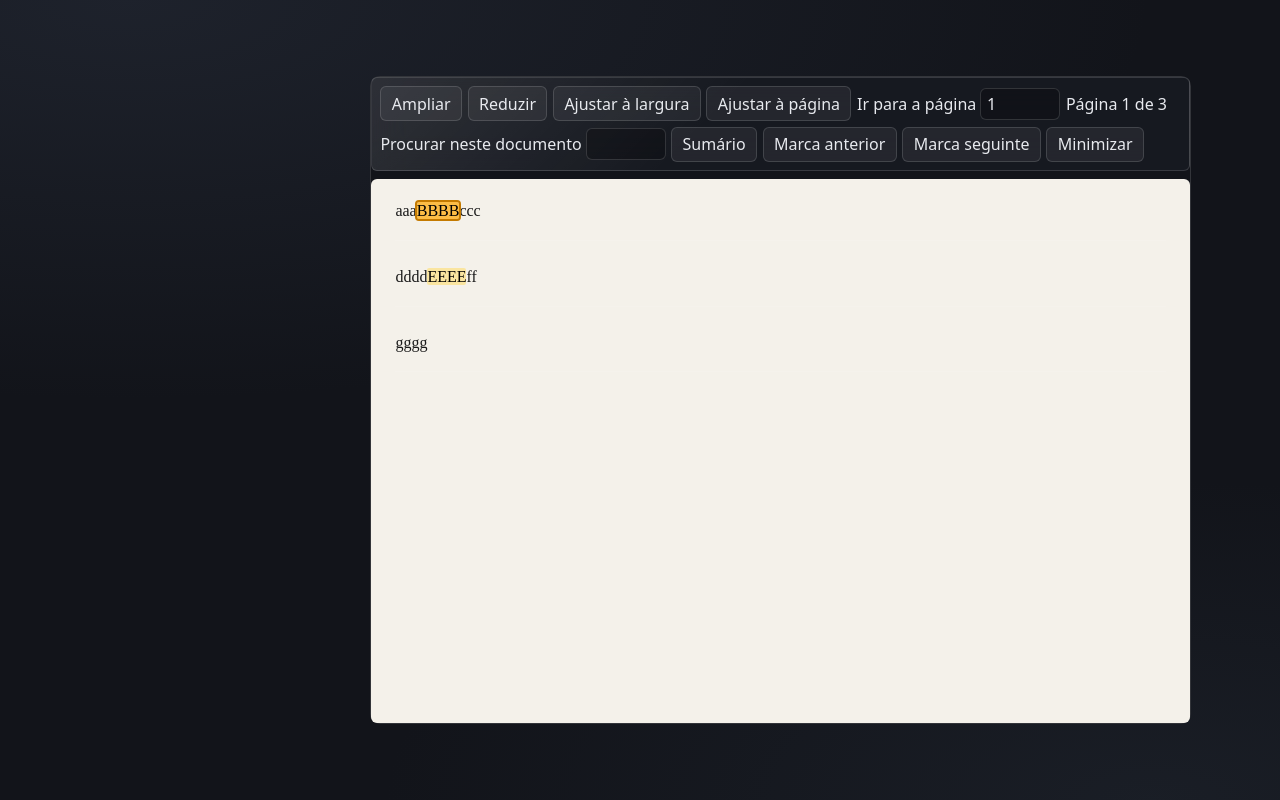
Test: REG-LEI-002 › scroll contínuo e salto entre marcas
The width and height of the screenshot is (1280, 800).
Expected: the dialog is shown, [370,76,1191,724]
Expected: the element showing "aaaBBBBccc ddddEEEEff gggg" is shown, [371,179,1190,723]
Click the button "Marca seguinte": point(972, 144) [902,127,1041,162]
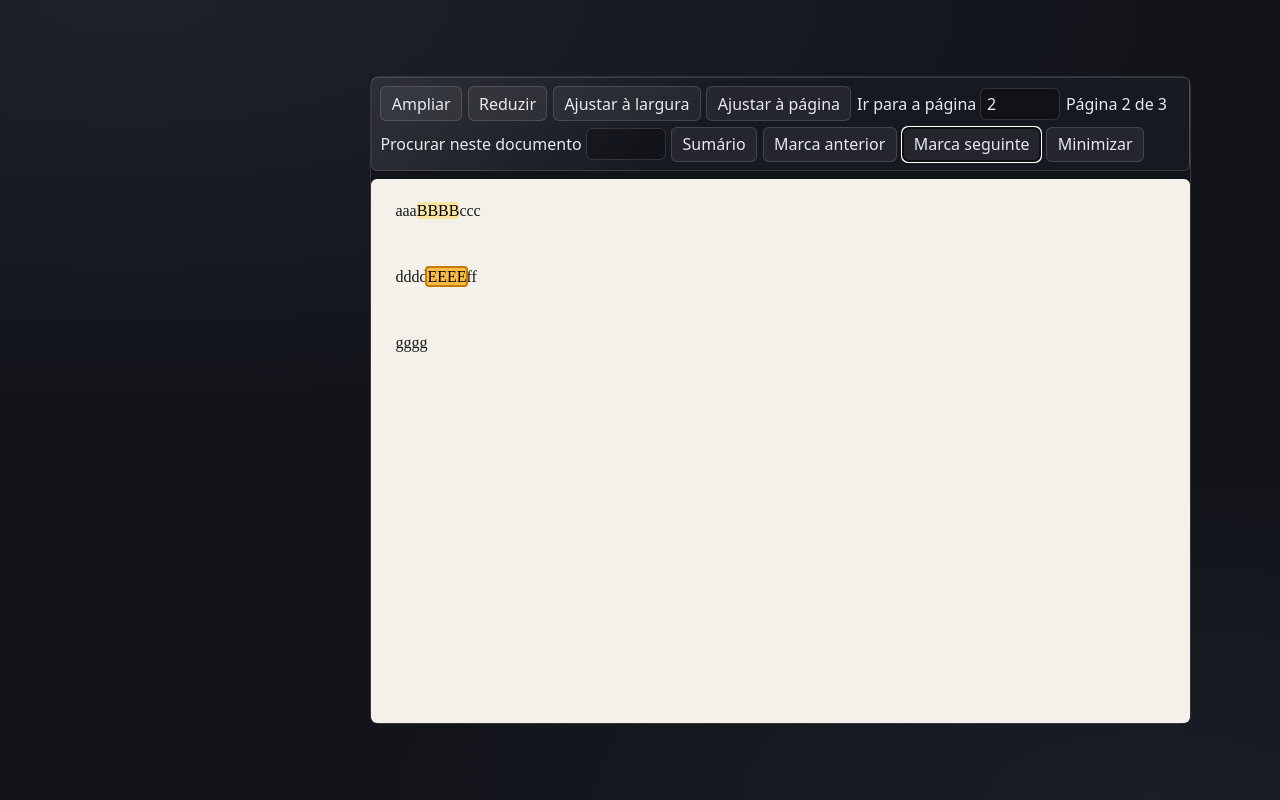
Expected: the number field labelled "Ir para a página" holds "2", [980,88,1060,120]
